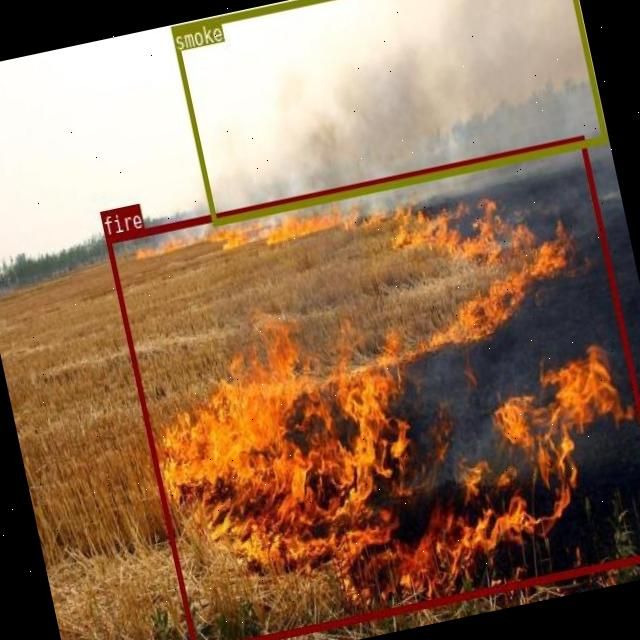fire: (105, 134, 640, 640)
smoke: (170, 0, 606, 224)
